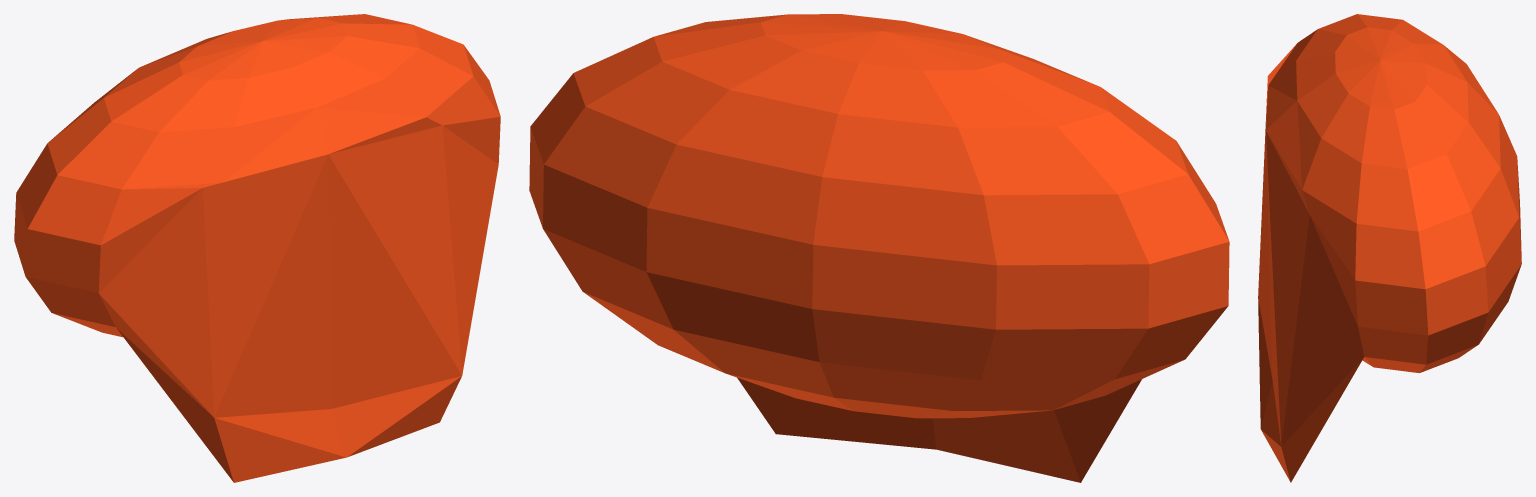
File: n5_group867280071_lev5.001.glb
3 renders of one model, left to right at view 1: azimuth 30°, elevation 25°; view 2: azimuth 150°, elevation 25°; view 3: azimuth 270°, elevation 25°, orthographic. The views are drawn at different scales.
Parts seen in each view (by area): view 1: n5_group867280071_lev5.001; view 2: n5_group867280071_lev5.001; view 3: n5_group867280071_lev5.001.
Boxes of the visible parts, <box> form: n5_group867280071_lev5.001: <box>14,14,500,482</box>; n5_group867280071_lev5.001: <box>529,14,1229,482</box>; n5_group867280071_lev5.001: <box>1258,14,1521,482</box>.
Size of the model in its own units: 2.78 by 2 by 1.32.
